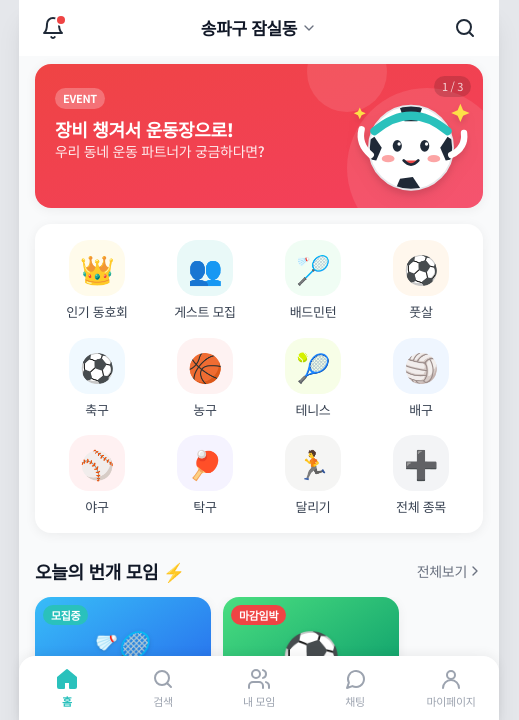
카테고리를 누르면 해당 종목 장소만 보여준다
Click the button "🏸 배드민턴" at (313, 281), box [259,240,367,322]
(page scrolled)
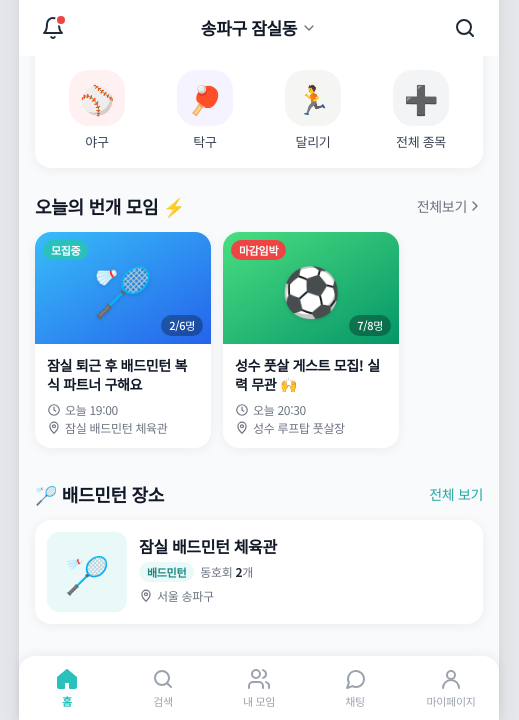
Expected: the heading "🏸 배드민턴 장소" is shown, [35,480,164,508]
